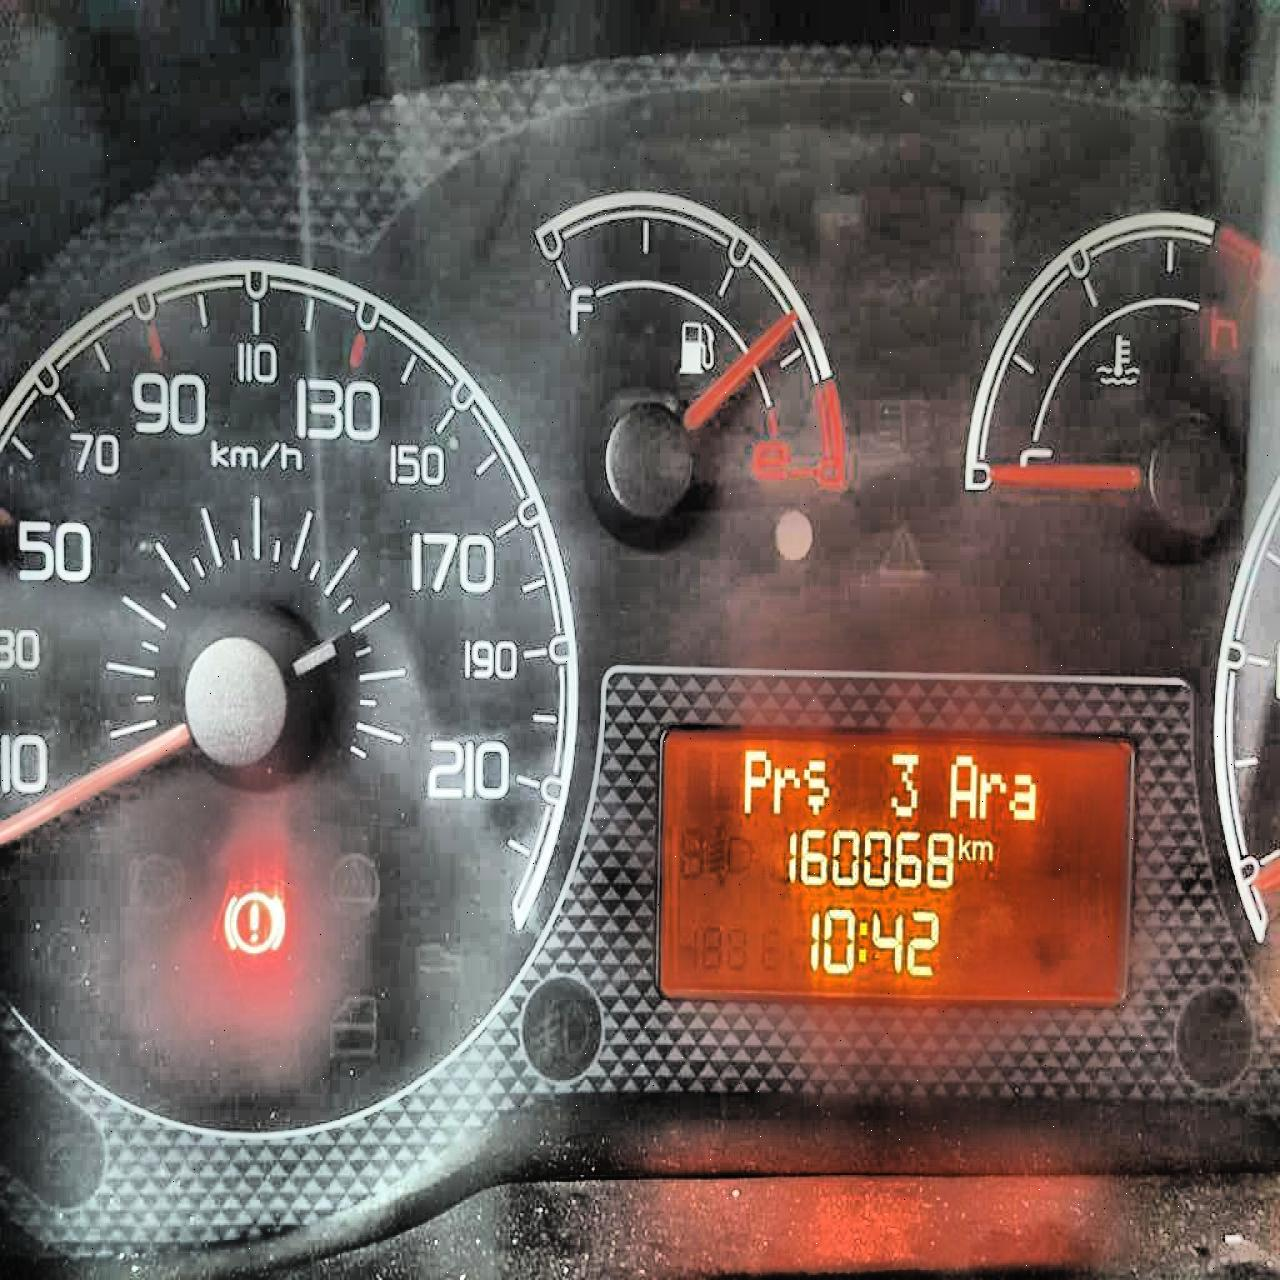0: (822, 905, 857, 975), (830, 826, 860, 886), (863, 826, 892, 886)
1: (808, 908, 821, 972), (784, 826, 797, 881)
2: (905, 906, 940, 976)
3: (887, 749, 920, 818)
4: (870, 908, 903, 975)
6: (892, 826, 924, 886), (799, 826, 829, 885)
8: (924, 826, 955, 888)
X: (946, 750, 978, 821), (740, 747, 771, 816), (801, 755, 830, 815), (771, 763, 799, 815), (1007, 770, 1035, 821), (979, 769, 1006, 818), (971, 837, 994, 862), (858, 917, 867, 964), (956, 829, 971, 859)
odometer: (651, 719, 1141, 1015)
